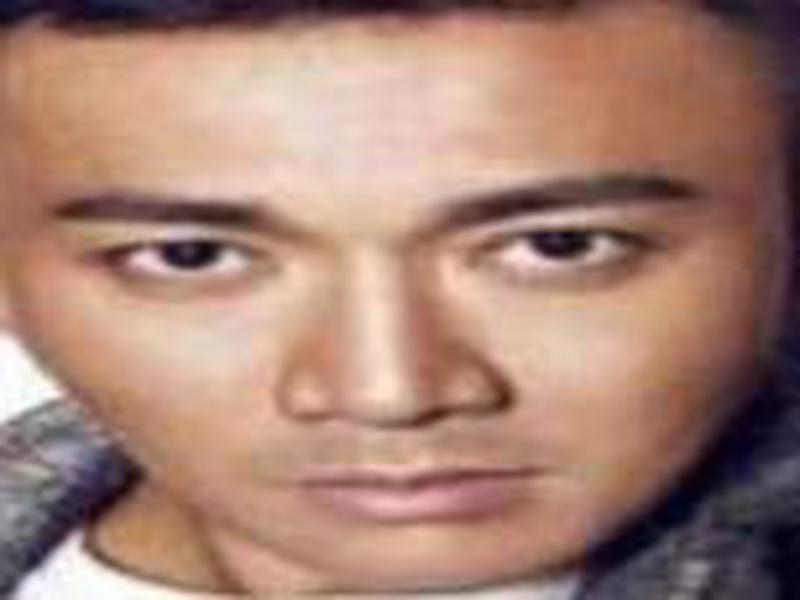without_mask: (12, 36, 772, 580)
